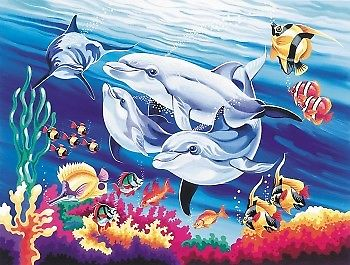dolphin: (101, 45, 298, 128), (151, 115, 294, 208), (25, 14, 138, 99)
